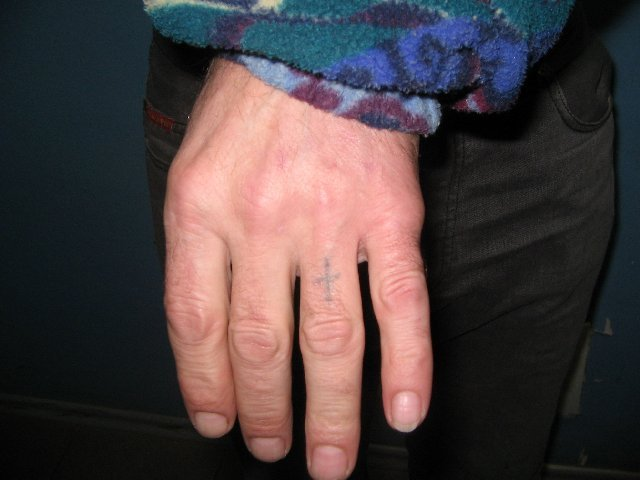tatu9_krest: (314, 258, 341, 306)
